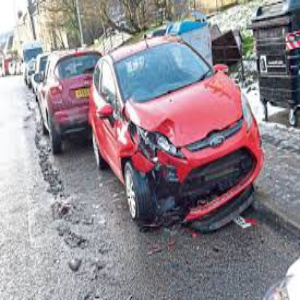bonnet: (140, 93, 202, 145)
bumper: (154, 173, 226, 226)
